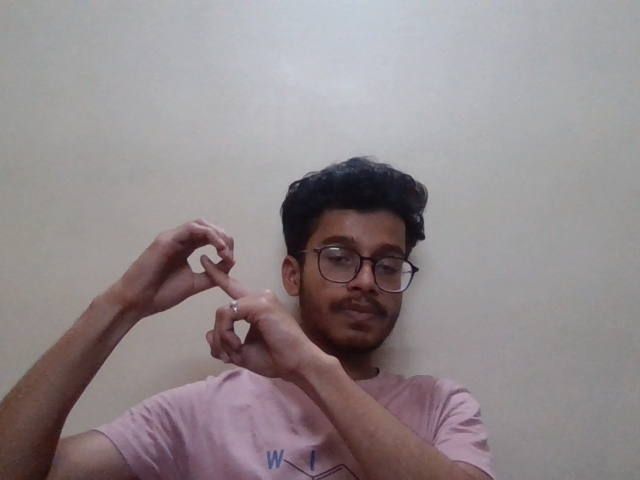Q: (75, 198, 347, 394)
